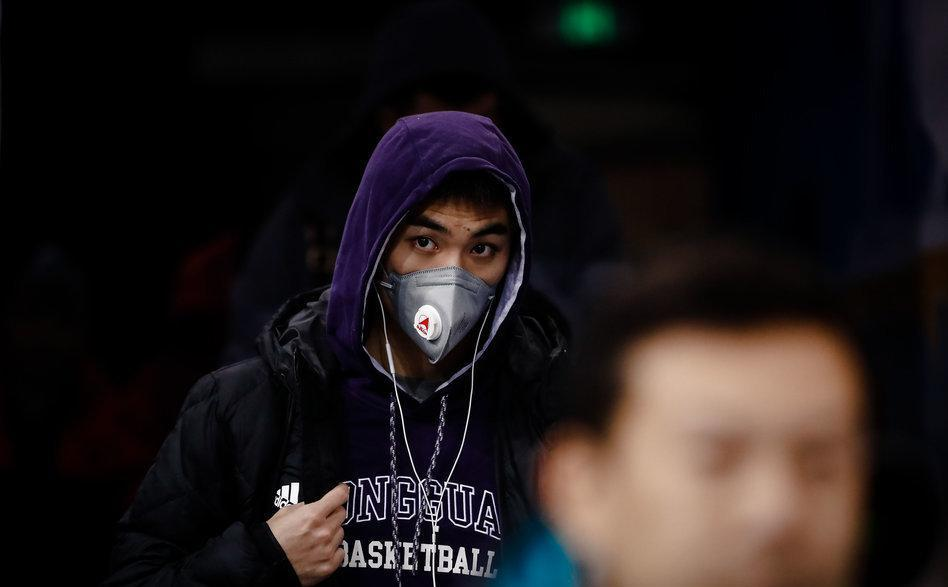NONE: (614, 404, 860, 587)
OK: (378, 208, 533, 363)
